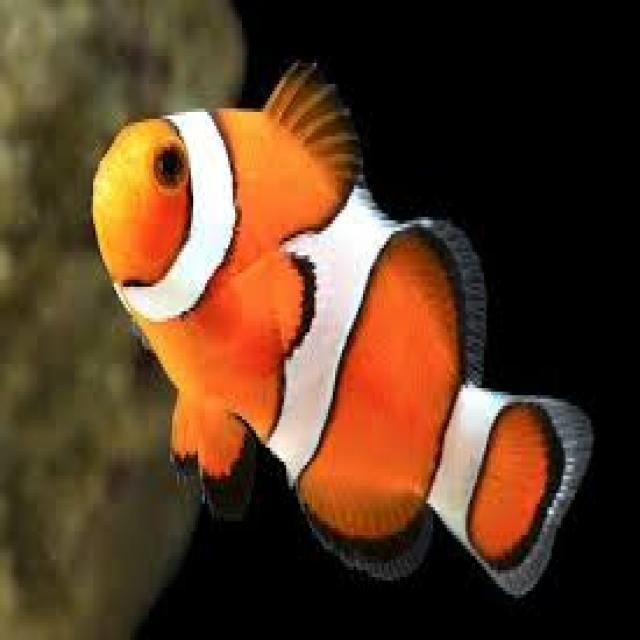ClownFish: (93, 57, 598, 600)
